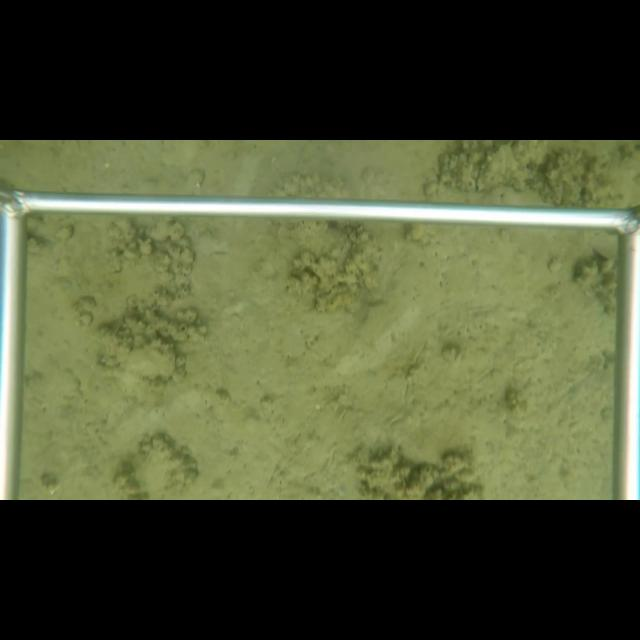Oyster-Closed: (122, 341, 180, 383), (475, 143, 520, 193)
